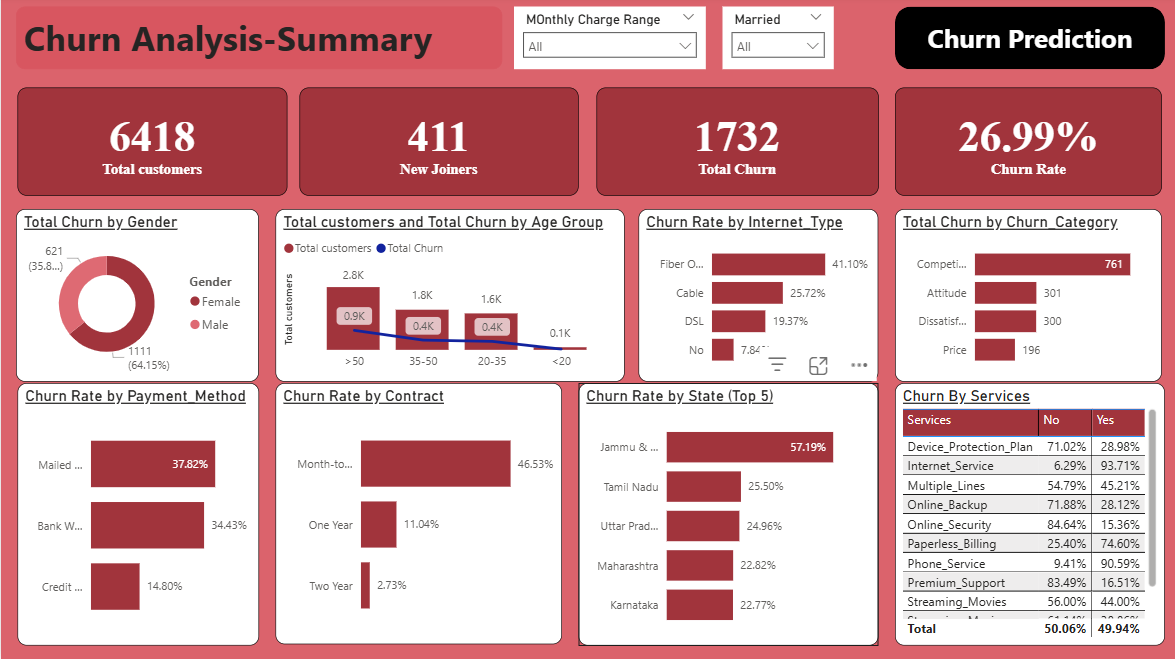

What the dashboard file says about the page in this screenshot:
{"tool":"powerbi","page":{"name":"Page 3","canvas":[1280,720],"ordinal":2},"visuals":[{"type":"donutChart","fields":{"Category":["churn_project.Gender"],"Y":["tbl_measures.Total Churn"]},"box":[16.3,231,263.5,187.1],"z":0},{"type":"clusteredBarChart","fields":{"Y":["tbl_measures.Churn Rate"],"Category":["churn_project.Payment_Method"]},"box":[17.9,419.6,261.9,284.6],"z":1000},{"type":"clusteredBarChart","fields":{"Y":["tbl_measures.Churn Rate"],"Category":["churn_project.Contract"]},"box":[297.7,419.6,310.7,283],"z":2000},{"type":"lineStackedColumnComboChart","fields":{"Category":["churn_project.Age Group"],"Y2":["tbl_measures.Total Churn"],"Y":["tbl_measures.total customers"]},"box":[297.7,231,379,187.1],"z":3000},{"type":"clusteredBarChart","fields":{"Y":["tbl_measures.Total Churn"],"Category":["churn_project.Churn_Category"]},"box":[969.4,231,289.5,187.1],"z":4000},{"type":"clusteredBarChart","fields":{"Y":["tbl_measures.Churn Rate"],"Category":["churn_project.Internet_Type"]},"box":[691.3,231,260.2,187.1],"z":5000},{"type":"clusteredBarChart","title":"Churn Rate by State (Top 5)","fields":{"Y":["tbl_measures.Churn Rate"],"Category":["churn_project.State"]},"box":[626.2,419.6,325.3,284.6],"z":6000},{"type":"pivotTable","title":"Churn By Services","fields":{"Rows":["Broad_services.Services"],"Columns":["Broad_services.Status"],"Values":["Sum(Broad_services.Churn Status)"]},"box":[969.4,419.6,292.8,284.6],"z":7000},{"type":"card","fields":{"Values":["tbl_measures.total customers"]},"box":[17.9,99.2,292.8,117.1],"z":8000},{"type":"card","fields":{"Values":["tbl_measures.New Joiners"]},"box":[323.7,99.2,302.5,117.1],"z":9000},{"type":"card","fields":{"Values":["tbl_measures.Total Churn"]},"box":[645.7,99.2,305.8,117.1],"z":10000},{"type":"card","fields":{"Values":["tbl_measures.Churn Rate"]},"box":[969.4,99.2,289.5,117.1],"z":11000},{"type":"slicer","fields":{"Values":["churn_project.MOnthly Charge Status"]},"box":[556.3,11.4,208.2,68.3],"z":12000},{"type":"slicer","fields":{"Values":["churn_project.Married"]},"box":[782.4,11.4,120.4,68.3],"z":13000},{"type":"textbox","box":[16.3,11.4,527,68.3],"z":14000},{"type":"shape","box":[969.4,11.4,292.8,68.3],"z":15000}]}

Visuals, with their boxes in screenshot pixels (x1, y1, x2, y2), scaled from the page's 1280x720 canvas onto the 1175x659 screenshot:
donutChart - churn_project.Gender x tbl_measures.Total Churn: [left=15, top=211, right=257, bottom=383]
clusteredBarChart - tbl_measures.Churn Rate x churn_project.Payment_Method: [left=16, top=384, right=257, bottom=645]
clusteredBarChart - tbl_measures.Churn Rate x churn_project.Contract: [left=273, top=384, right=558, bottom=643]
lineStackedColumnComboChart - churn_project.Age Group x tbl_measures.Total Churn: [left=273, top=211, right=621, bottom=383]
clusteredBarChart - tbl_measures.Total Churn x churn_project.Churn_Category: [left=890, top=211, right=1156, bottom=383]
clusteredBarChart - tbl_measures.Churn Rate x churn_project.Internet_Type: [left=635, top=211, right=873, bottom=383]
"Churn Rate by State (Top 5)" clusteredBarChart: [left=575, top=384, right=873, bottom=645]
"Churn By Services" pivotTable: [left=890, top=384, right=1159, bottom=645]
card - tbl_measures.total customers: [left=16, top=91, right=285, bottom=198]
card - tbl_measures.New Joiners: [left=297, top=91, right=575, bottom=198]
card - tbl_measures.Total Churn: [left=593, top=91, right=873, bottom=198]
card - tbl_measures.Churn Rate: [left=890, top=91, right=1156, bottom=198]
slicer - churn_project.MOnthly Charge Status: [left=511, top=10, right=702, bottom=73]
slicer - churn_project.Married: [left=718, top=10, right=829, bottom=73]
textbox: [left=15, top=10, right=499, bottom=73]
shape: [left=890, top=10, right=1159, bottom=73]
